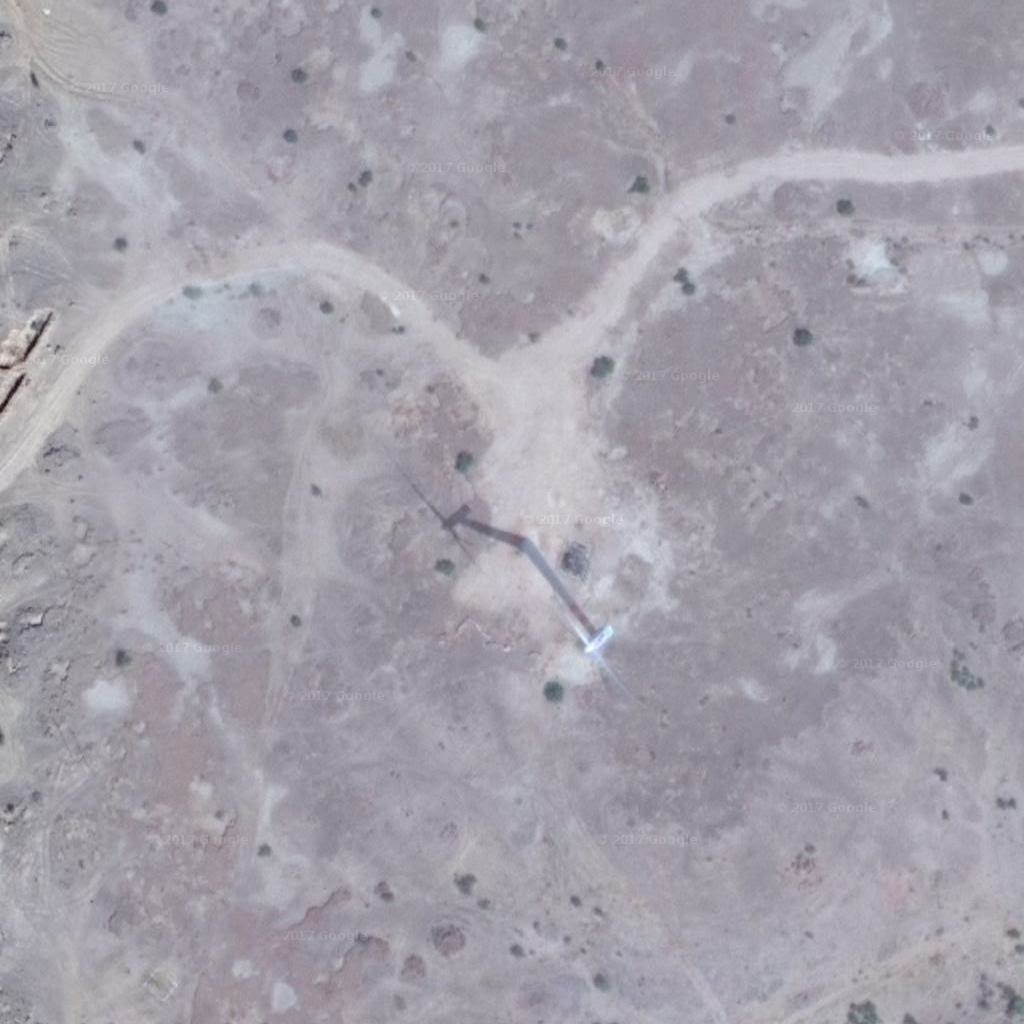Windmill: (379, 461, 566, 555)
